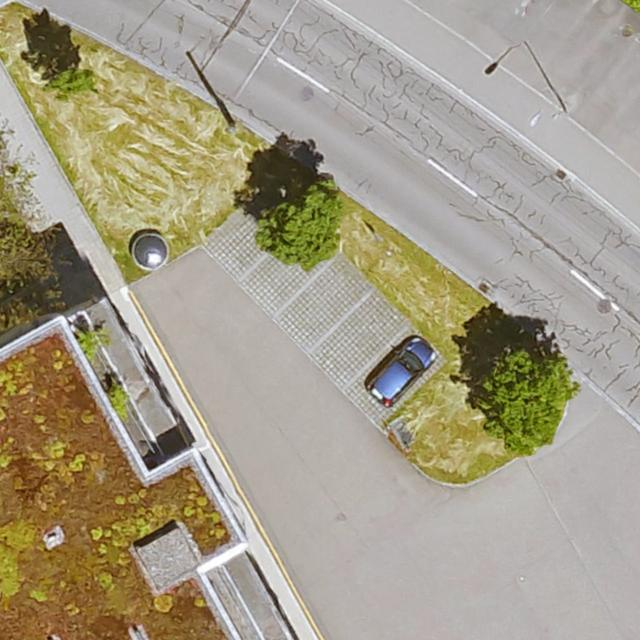tree: (476, 347, 578, 454), (0, 120, 52, 328), (257, 182, 343, 270), (46, 68, 97, 100)
